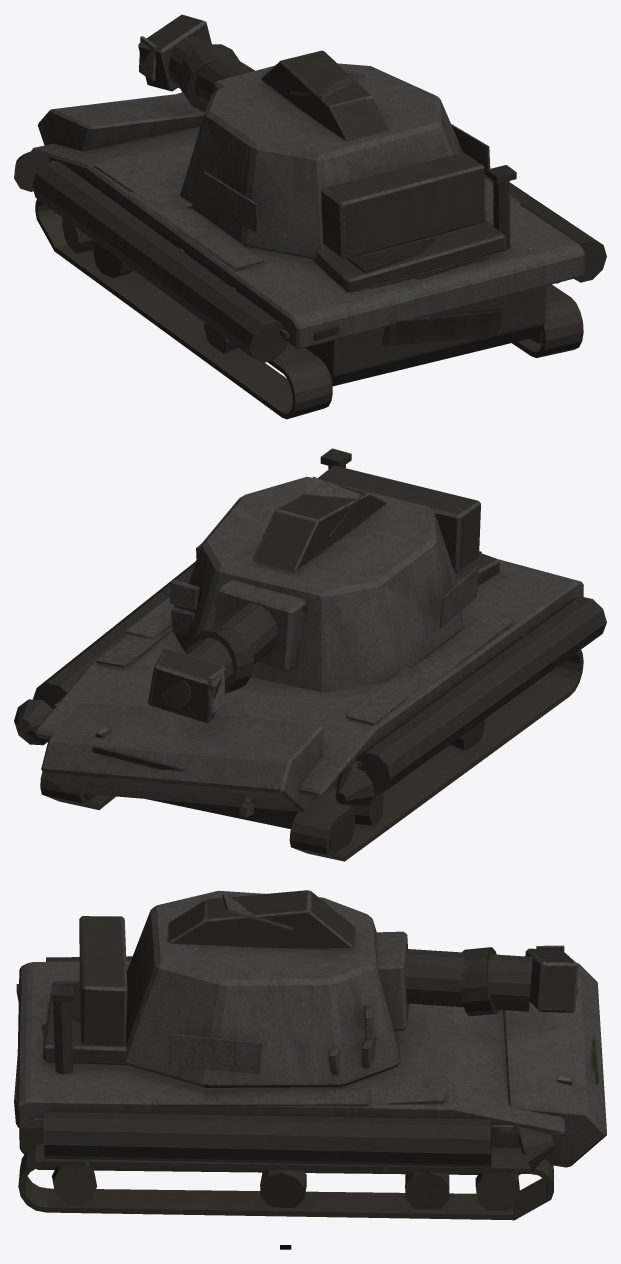
The model's file is chs_grendel_wreck.fbx.
3 views of the same model, one above another, from view 1: azimuth 30°, elevation 25°; view 2: azimuth 150°, elevation 25°; view 3: azimuth 270°, elevation 25° (orthographic). The views are drawn at different scales.
Parts seen in each view (by area): view 1: base_bar, turret_bar, trackL_bar, barrel_bar, trackR_bar; view 2: base_bar, turret_bar, trackL_bar, barrel_bar, trackR_bar; view 3: base_bar, turret_bar, trackR_bar, barrel_bar.
Boxes of the visible parts, x1,y1,x2,y2 form: base_bar: [14, 92, 606, 386]; turret_bar: [180, 50, 490, 259]; trackL_bar: [35, 199, 332, 419]; barrel_bar: [138, 14, 274, 111]; trackR_bar: [512, 284, 583, 357]; base_bar: [14, 448, 606, 829]; turret_bar: [169, 465, 480, 691]; trackL_bar: [289, 650, 583, 861]; barrel_bar: [148, 580, 306, 723]; trackR_bar: [40, 772, 115, 809]; base_bar: [14, 956, 606, 1175]; turret_bar: [79, 890, 400, 1087]; trackR_bar: [18, 1143, 553, 1220]; barrel_bar: [375, 931, 578, 1030].
Size of the model in its own units: 759 by 688 by 1050.
Materials: 2 (2 with a texture image).
